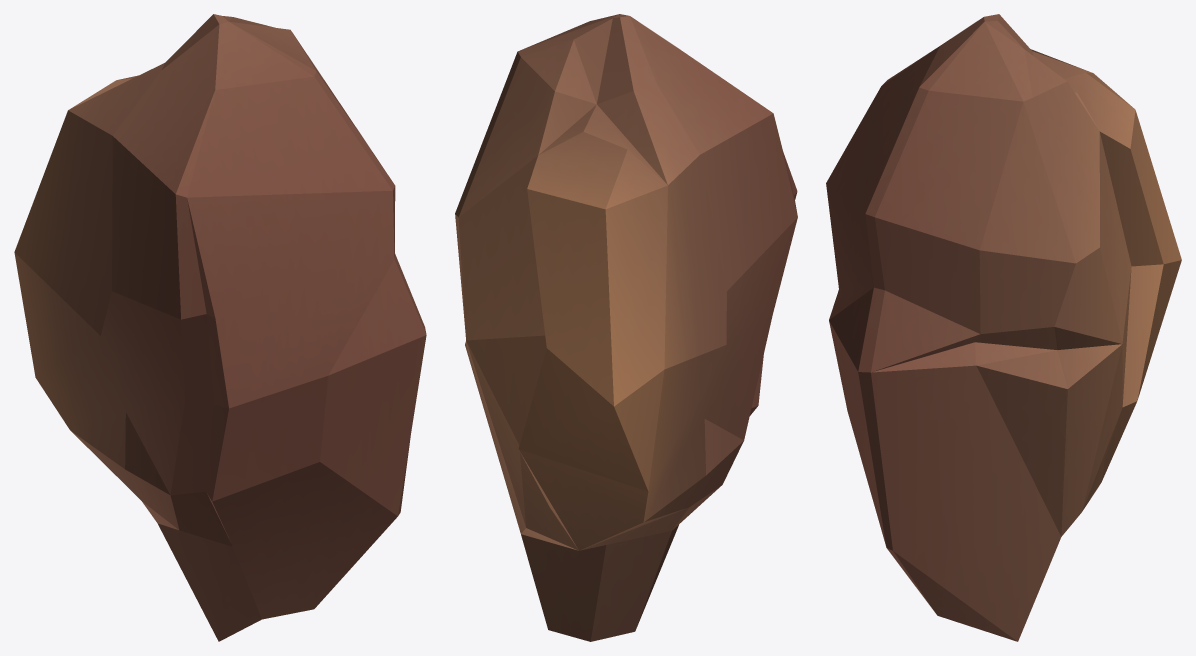
The model's file is roc01.FBX.
3 renders of one model, left to right at view 1: azimuth 30°, elevation 25°; view 2: azimuth 150°, elevation 25°; view 3: azimuth 270°, elevation 25°, orthographic. The views are drawn at different scales.
Visible parts, largest first — view 1: roc01_LOD00; view 2: roc01_LOD00; view 3: roc01_LOD00.
Boxes of the visible parts, bbox=[...] form: roc01_LOD00: bbox=[14, 14, 426, 641]; roc01_LOD00: bbox=[455, 14, 797, 641]; roc01_LOD00: bbox=[826, 14, 1181, 641].
Size of what is drawn, in the model's own units: 7.18 by 15.88 by 8.48.
